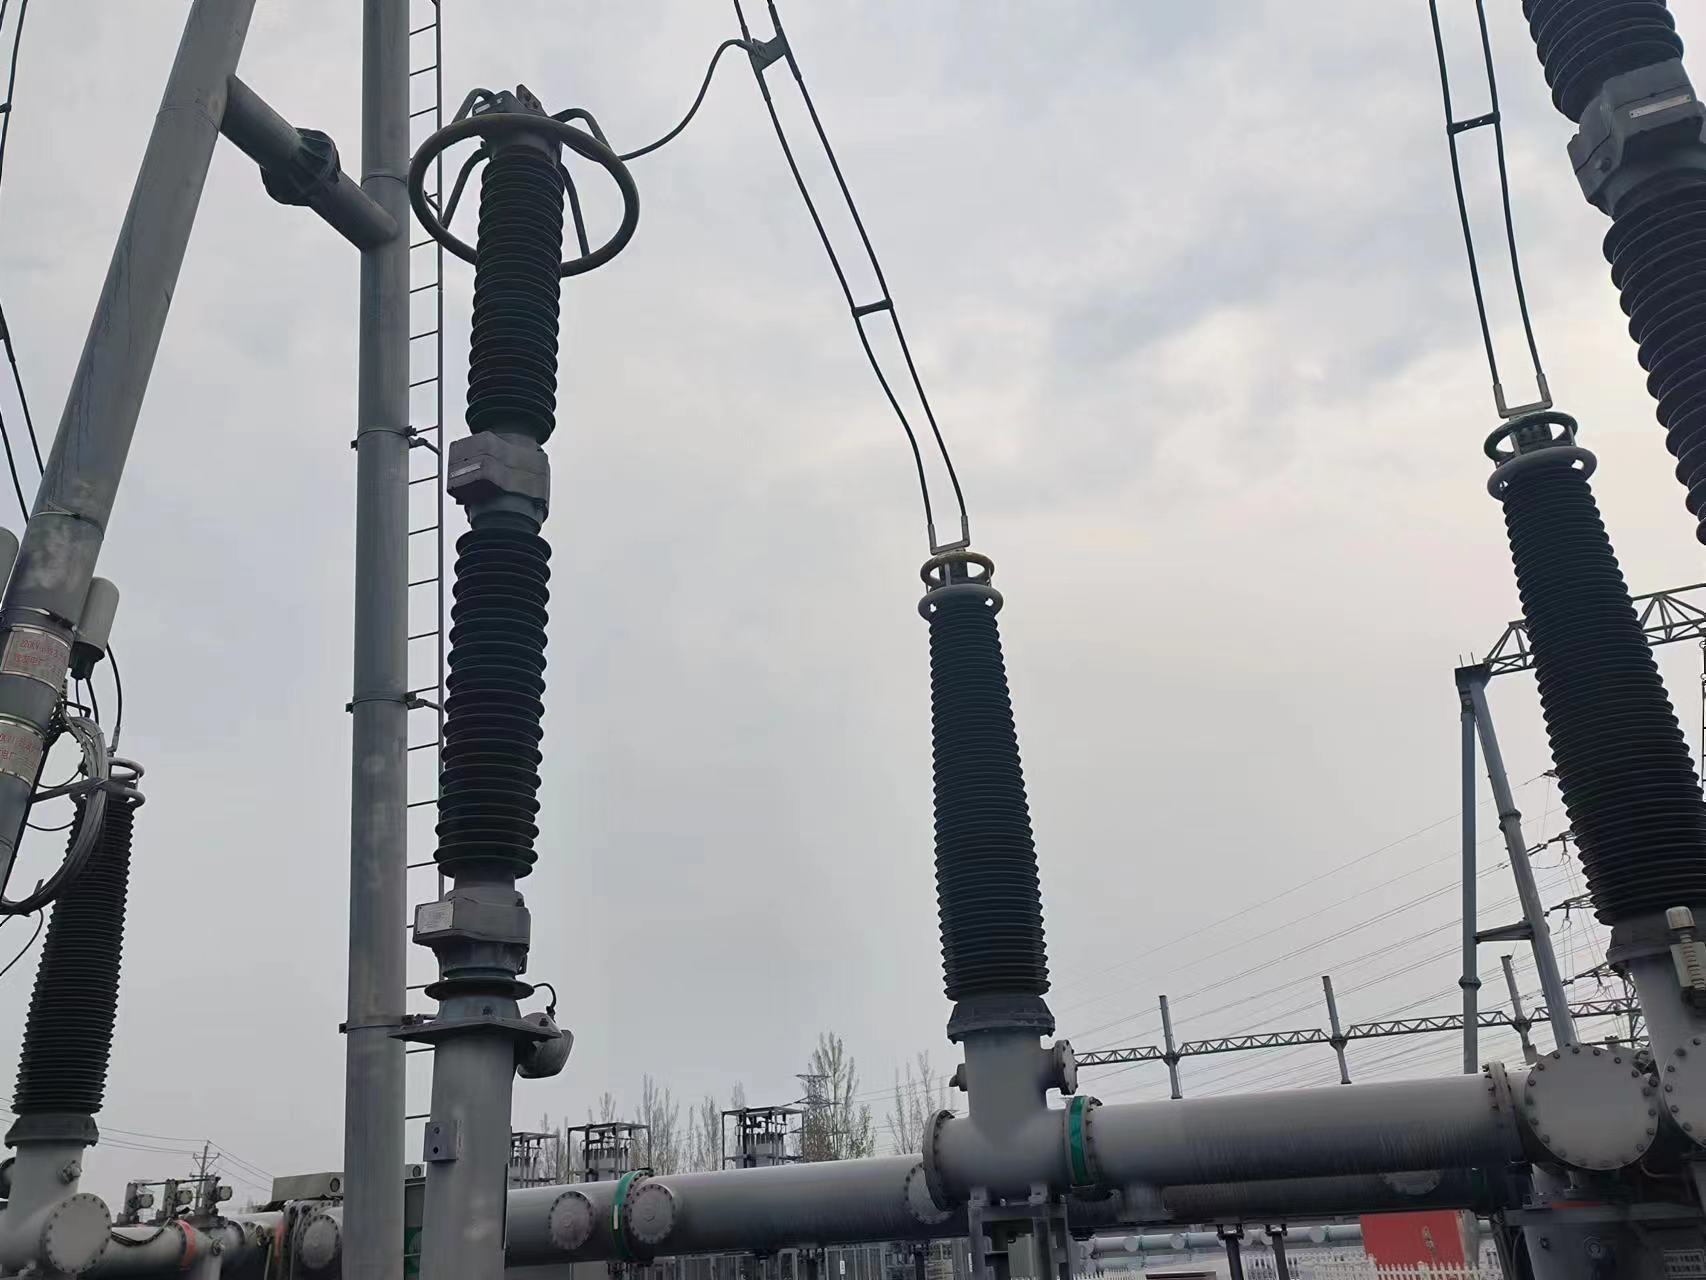Arrester: (405, 85, 643, 982)
Voltage transformer: (1472, 413, 1706, 951), (911, 549, 1059, 1034), (5, 758, 147, 1142)
